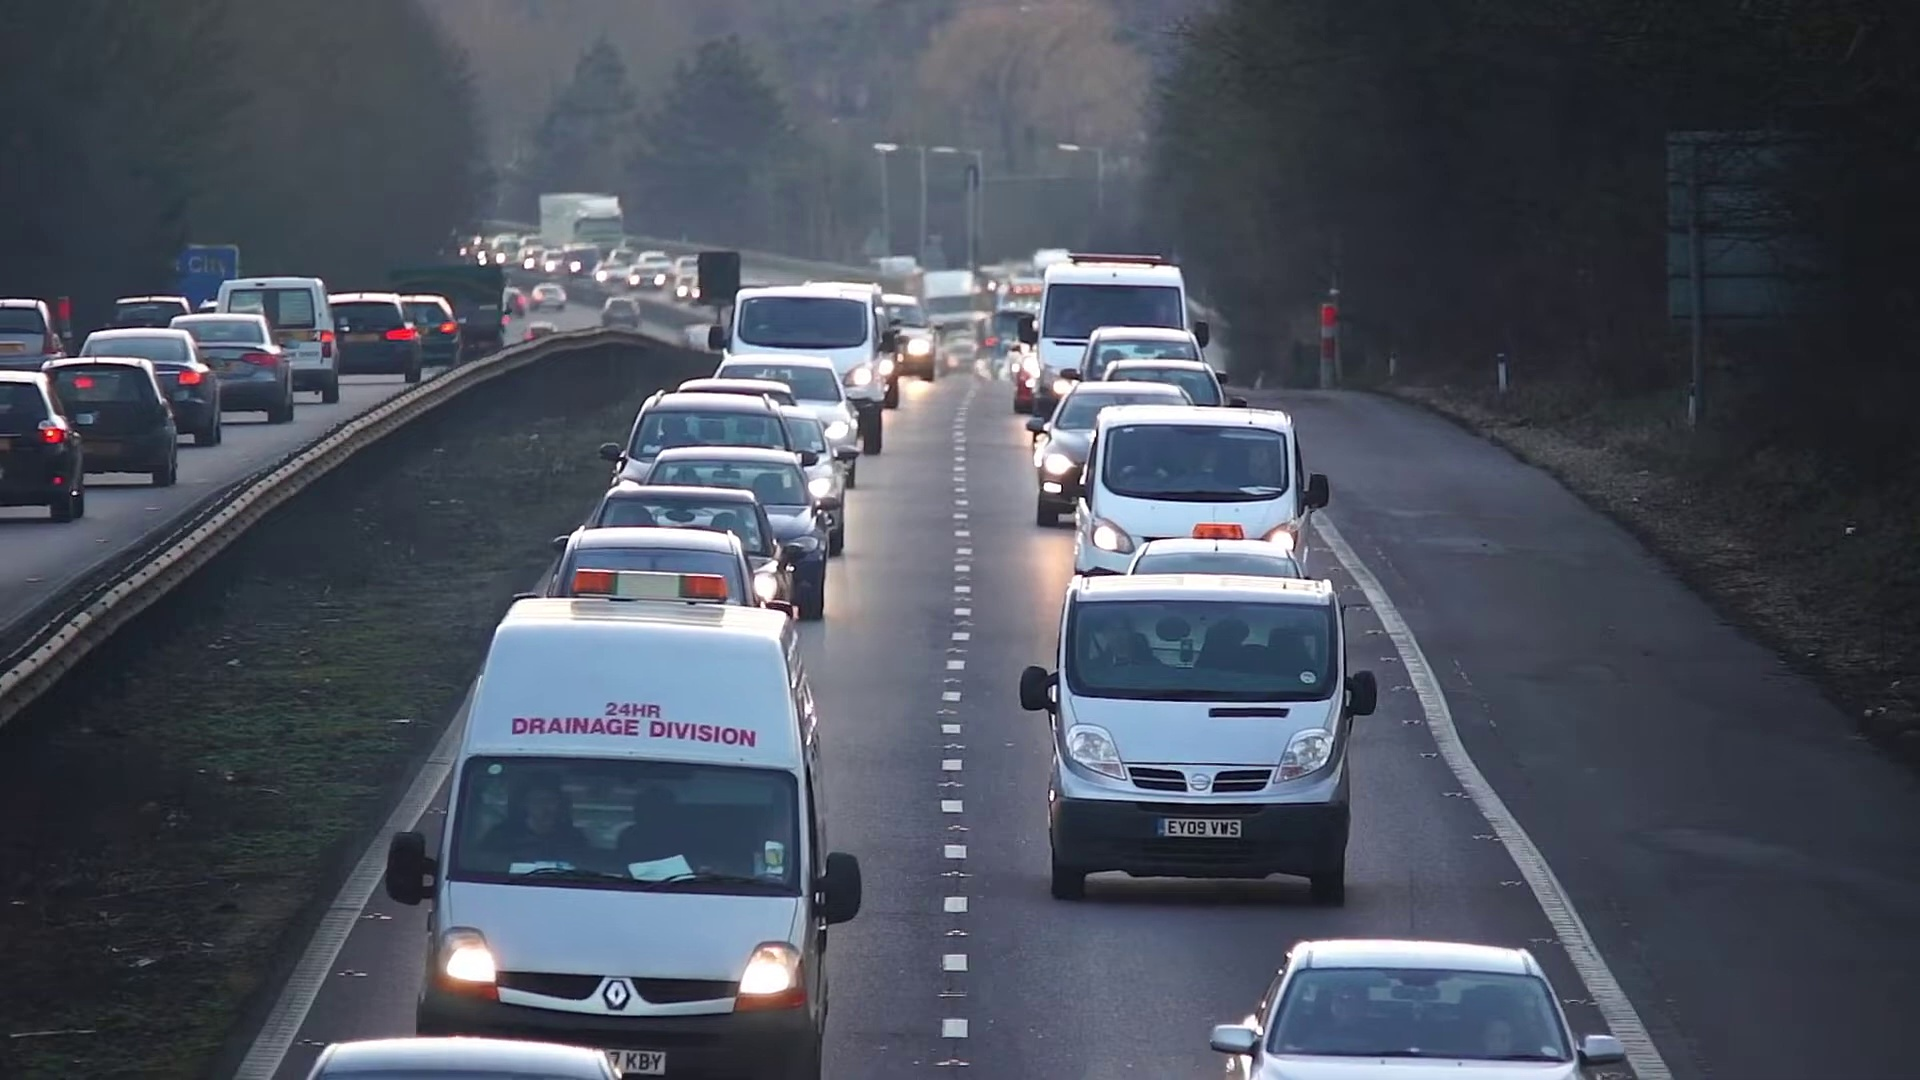license_plate: (1156, 810, 1243, 842)
